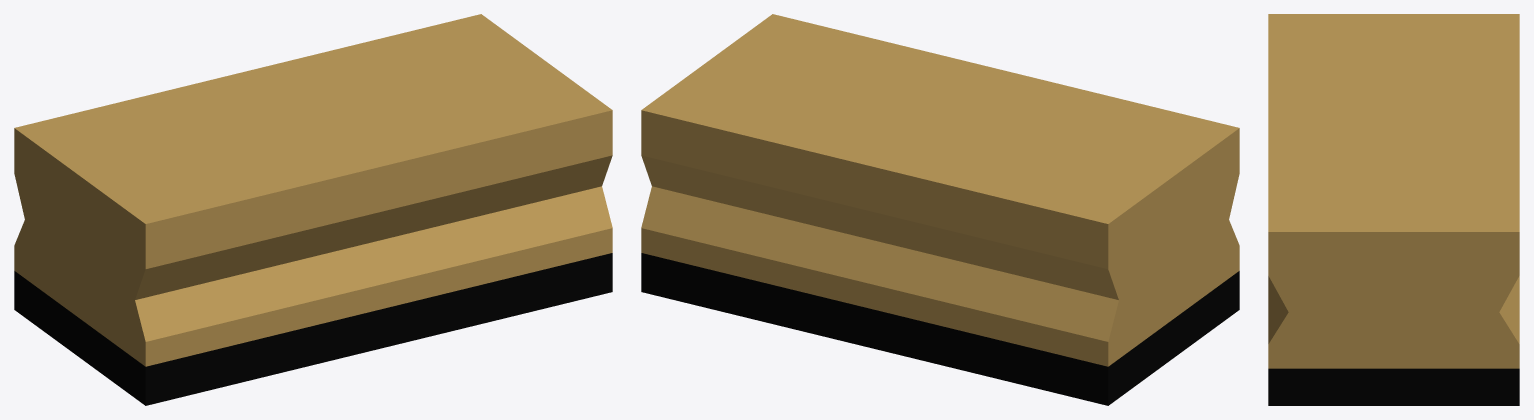
Rendered from ChalkEraser.fbx.
3 views of the same model, side by side, from view 1: azimuth 30°, elevation 25°; view 2: azimuth 150°, elevation 25°; view 3: azimuth 270°, elevation 25° (orthographic). The views are drawn at different scales.
Parts seen in each view (by area): view 1: ChalkEraser; view 2: ChalkEraser; view 3: ChalkEraser.
Part boxes in pixels (x1,y1,x2,y2): ChalkEraser: (14, 14, 612, 405); ChalkEraser: (641, 14, 1239, 405); ChalkEraser: (1268, 14, 1519, 405).
Size of the model in its own units: 185 by 68.68 by 89.99.
